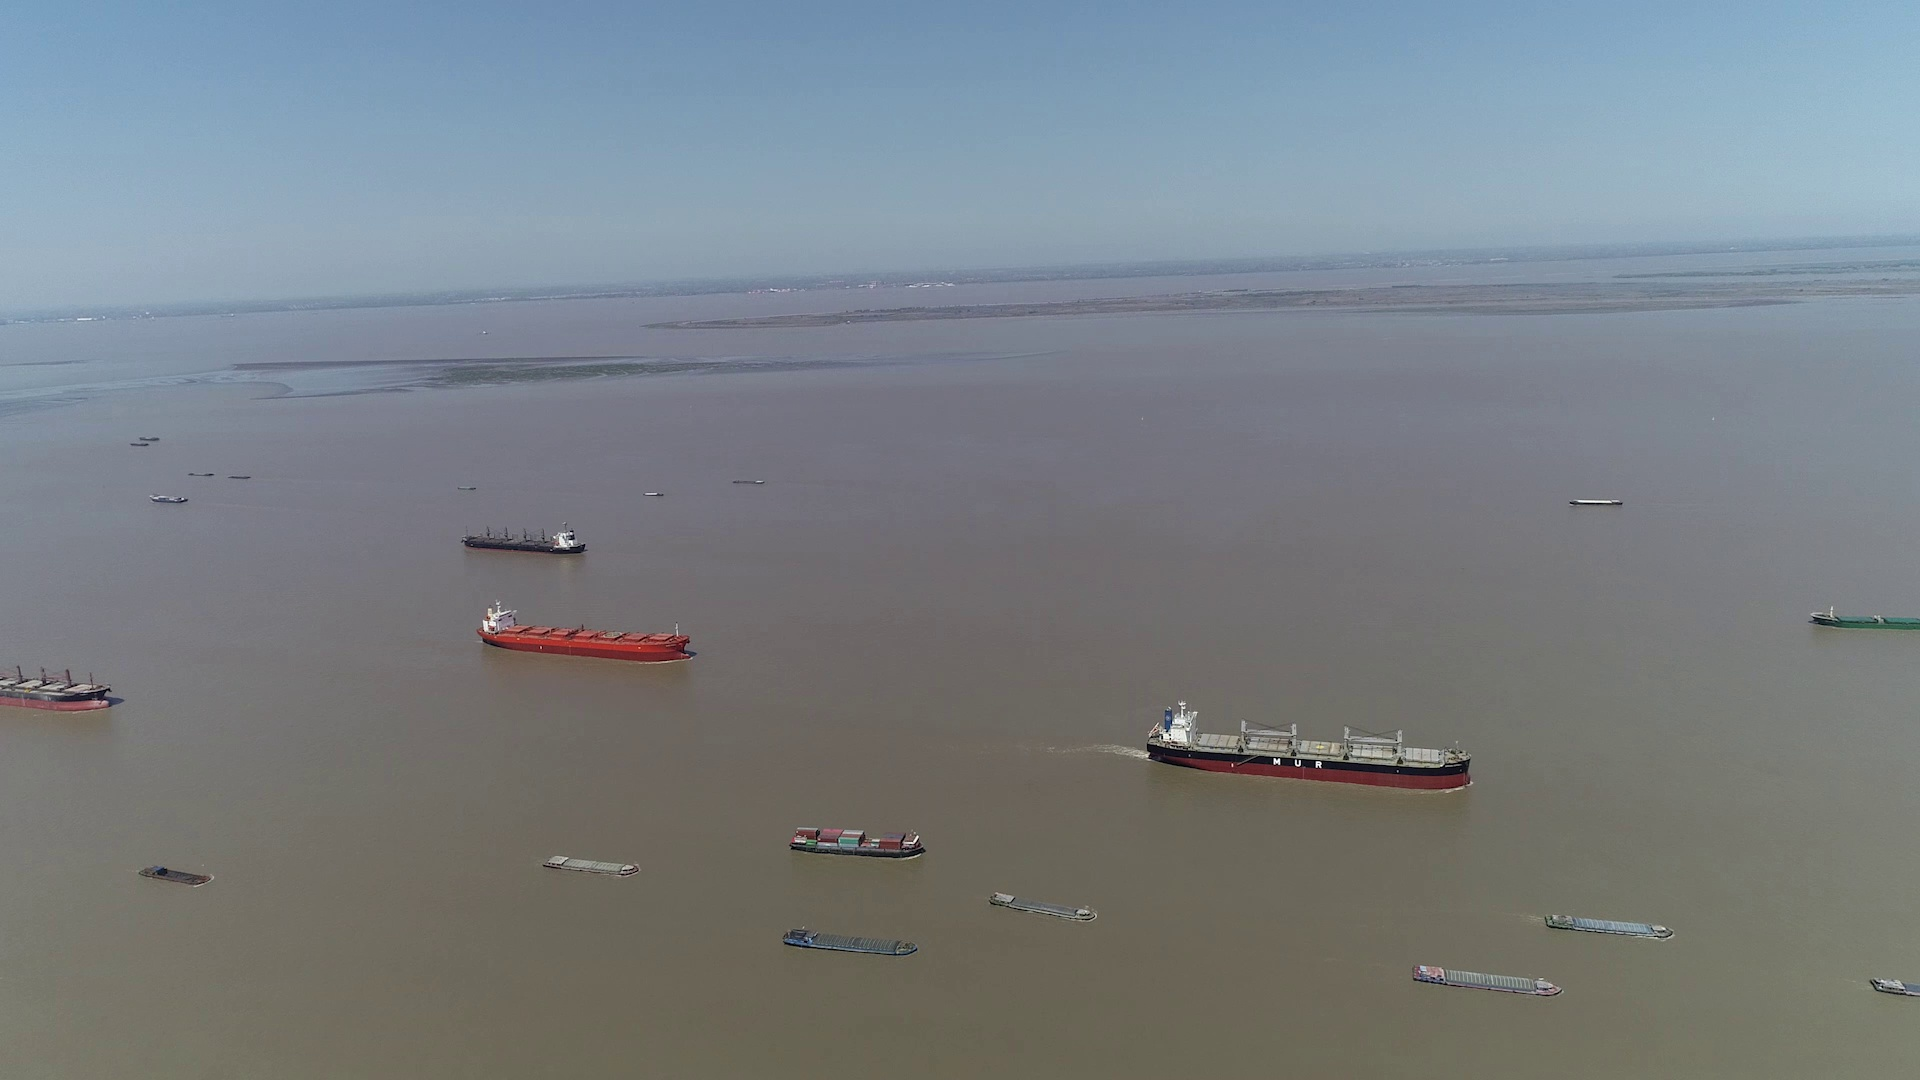ship: (1147, 700, 1473, 789), (483, 603, 690, 662), (3, 649, 117, 713), (1411, 964, 1561, 997), (790, 825, 924, 860), (781, 927, 918, 957), (463, 522, 587, 554), (1544, 911, 1671, 939), (989, 891, 1095, 922), (1811, 607, 1917, 630), (541, 855, 638, 878), (140, 865, 212, 885), (1867, 977, 1917, 1004), (1565, 498, 1619, 506), (152, 492, 189, 502)
